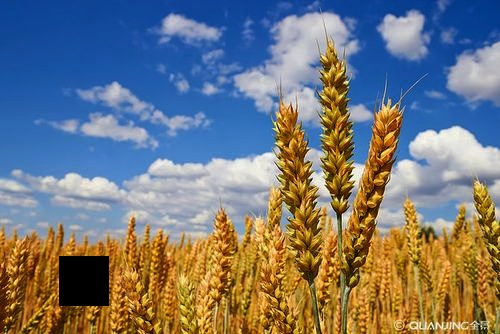wheat: (345, 101, 395, 292), (271, 92, 317, 287), (318, 39, 356, 216)
